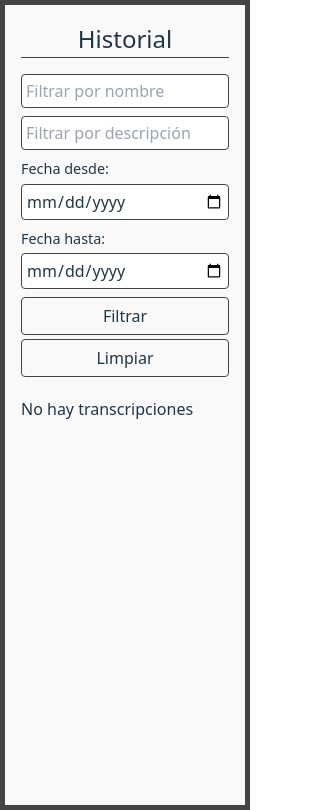
it: Historial - Filtrar por características › debe validar que fecha desde no sea mayor a fecha hasta
This screenshot has width=320, height=810.
Expected: the text "No hay transcripciones" is shown, top-left (21, 398), bottom-right (193, 420)
# Cambiar fechas y esperar actualizaciones
In the 1st date field: (125,202) top-left (21, 184), bottom-right (229, 220), type "2025-10-15"
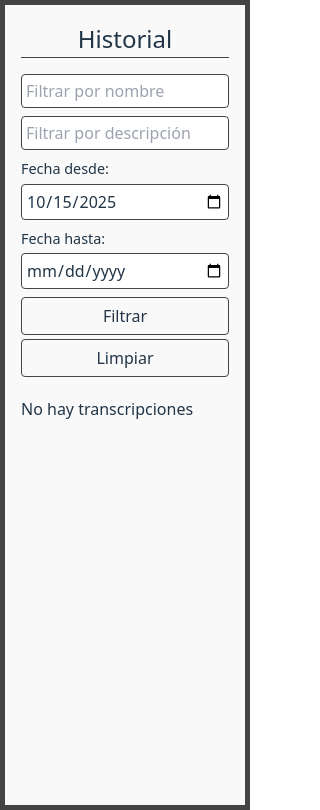
In the 2nd date field: (125,271) top-left (21, 253), bottom-right (229, 289), type "2025-10-10"
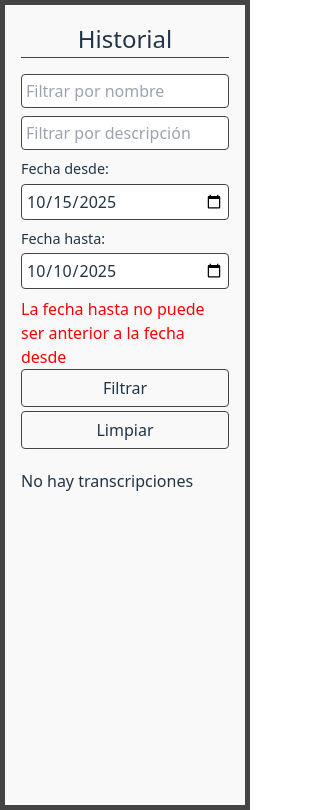
Expected: the text "La fecha hasta no puede ser anterior a la fecha desde" is shown, top-left (21, 297), bottom-right (229, 369)
